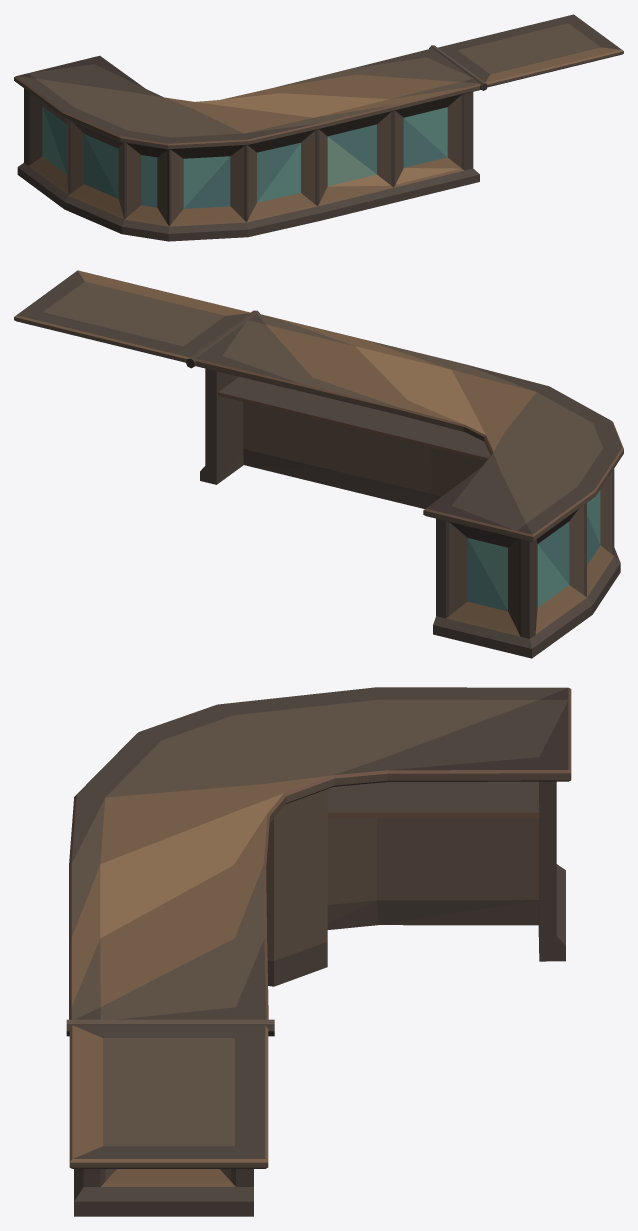
The model's file is bar_desk_upstairs.fbx.
The picture shows the model from 3 angles, top to bottom: view 1: azimuth 30°, elevation 25°; view 2: azimuth 150°, elevation 25°; view 3: azimuth 270°, elevation 25°; orthographic projection. The views are drawn at different scales.
Parts seen in each view (by area): view 1: bar_desk_upstairs_table, bar_desk_upstairs_door; view 2: bar_desk_upstairs_table, bar_desk_upstairs_door; view 3: bar_desk_upstairs_table, bar_desk_upstairs_door.
Boxes of the visible parts, bbox=[...] form: bar_desk_upstairs_table: bbox=[14, 48, 480, 241]; bar_desk_upstairs_door: bbox=[429, 14, 623, 90]; bar_desk_upstairs_table: bbox=[195, 313, 623, 658]; bar_desk_upstairs_door: bbox=[14, 270, 259, 368]; bar_desk_upstairs_table: bbox=[69, 687, 571, 1216]; bar_desk_upstairs_door: bbox=[66, 1019, 274, 1168].
Bounding box in the file's own units: 472 × 92.55 × 213.
